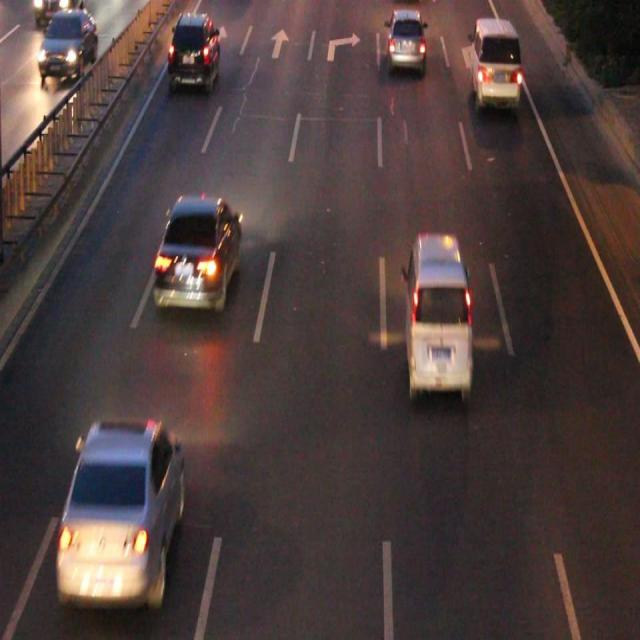car: (59, 422, 182, 596), (155, 196, 240, 304), (169, 15, 218, 87), (386, 11, 423, 67)
truck: (404, 236, 470, 390), (471, 19, 518, 103)
